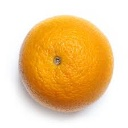orange: (16, 13, 116, 114)
